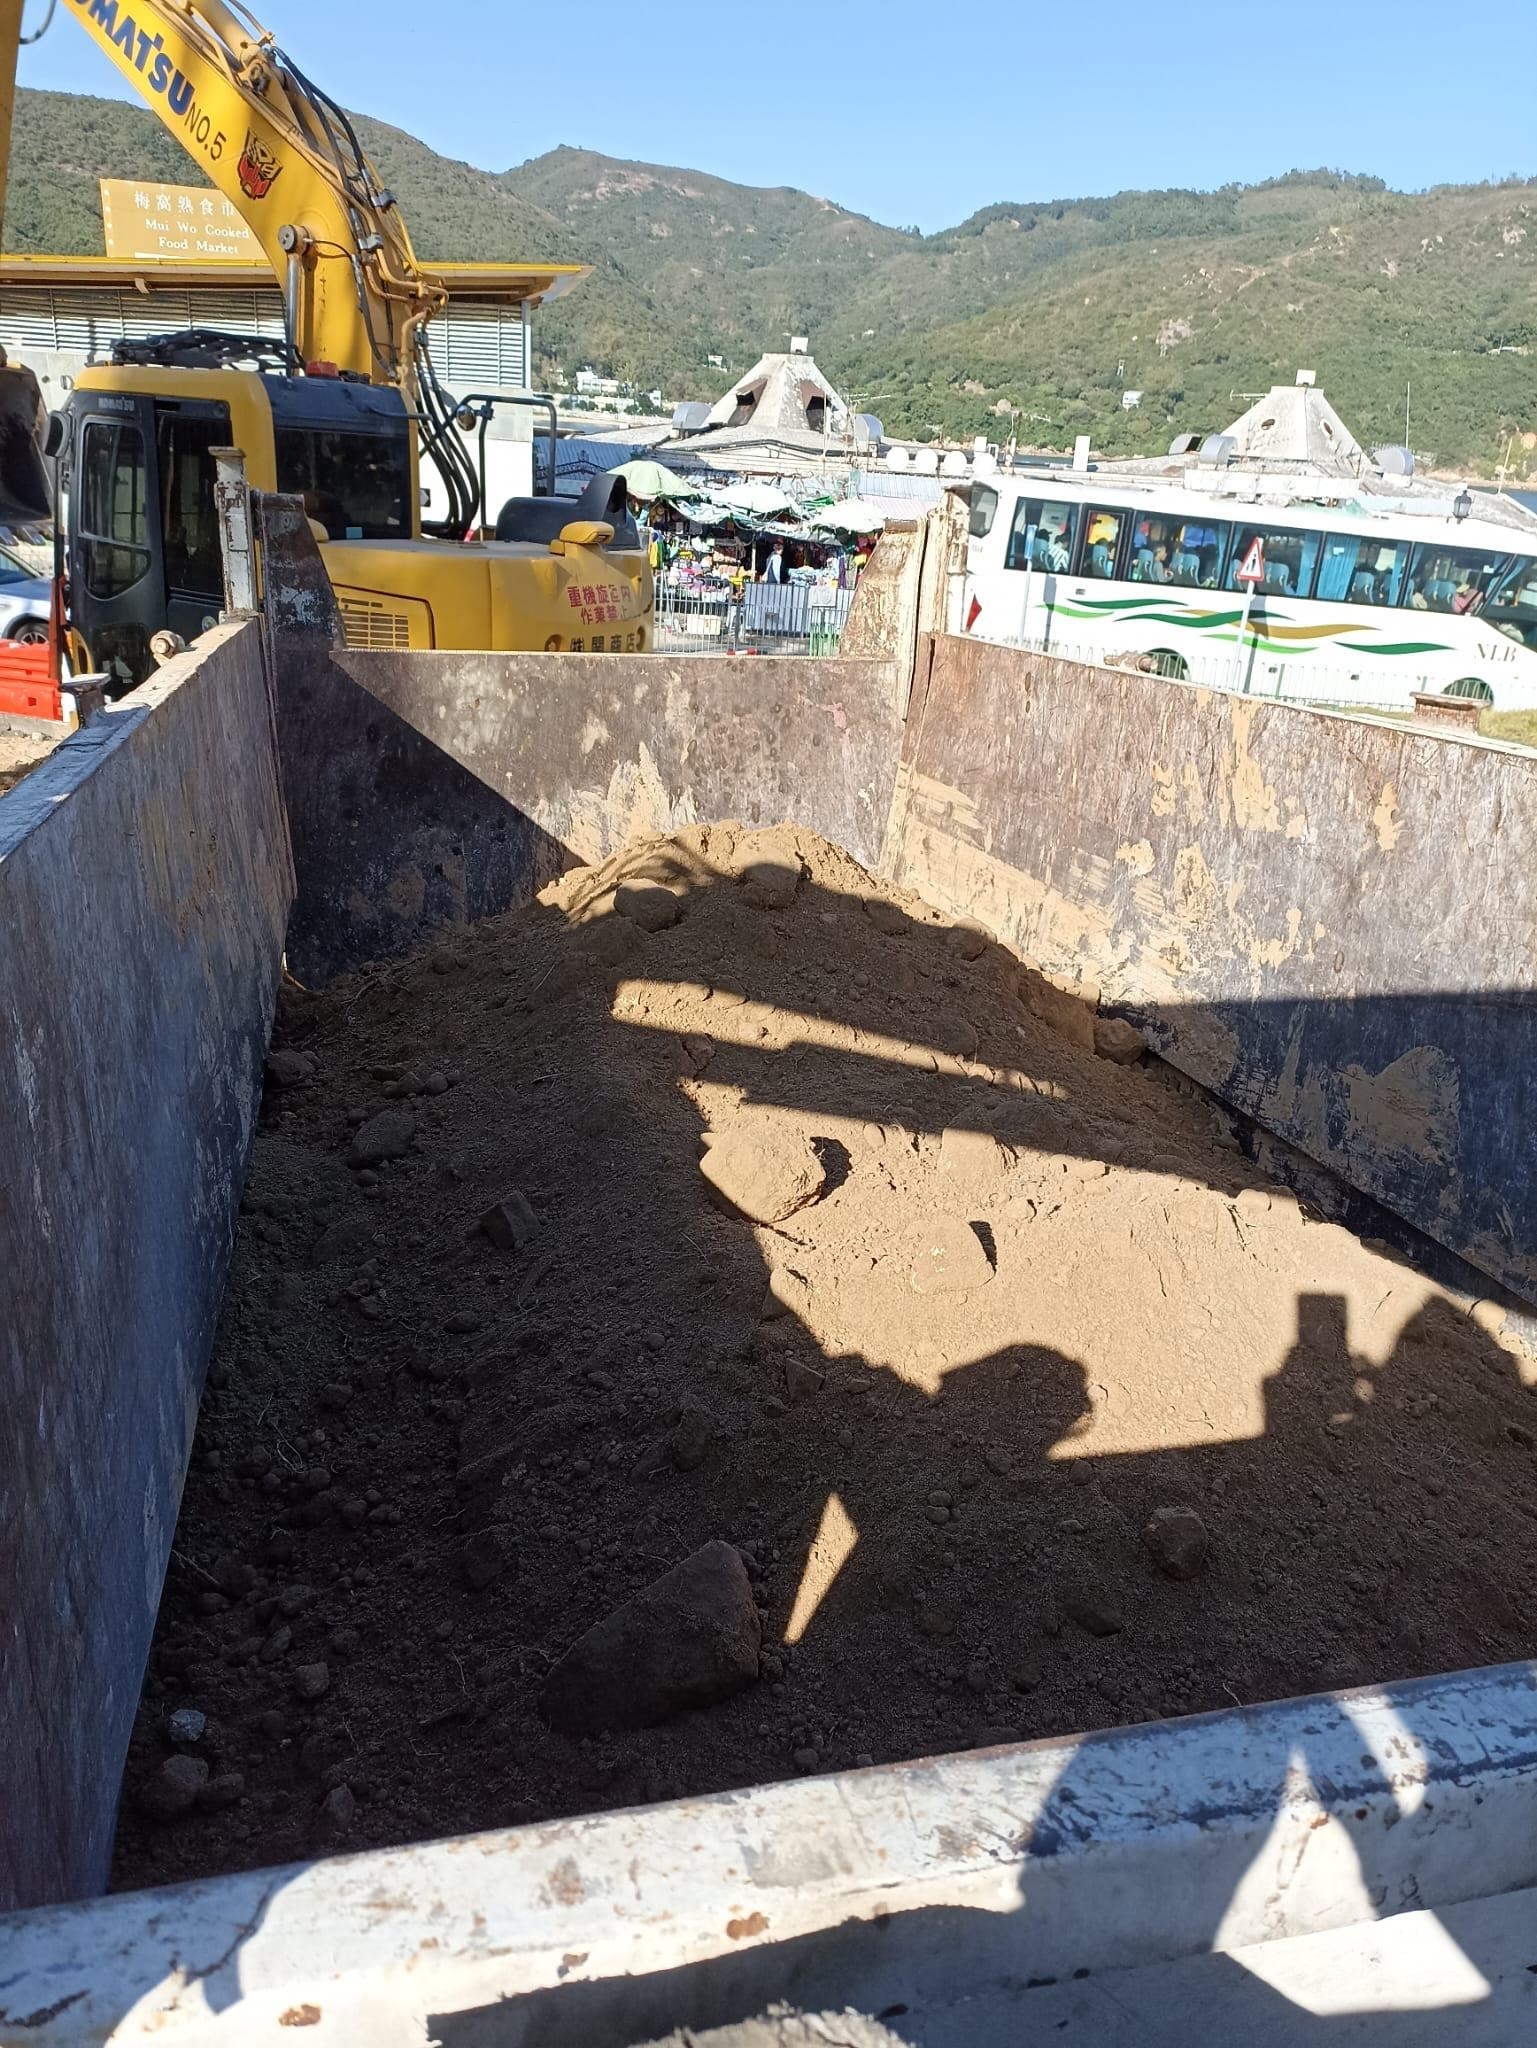dry: (116, 826, 1534, 1883)
